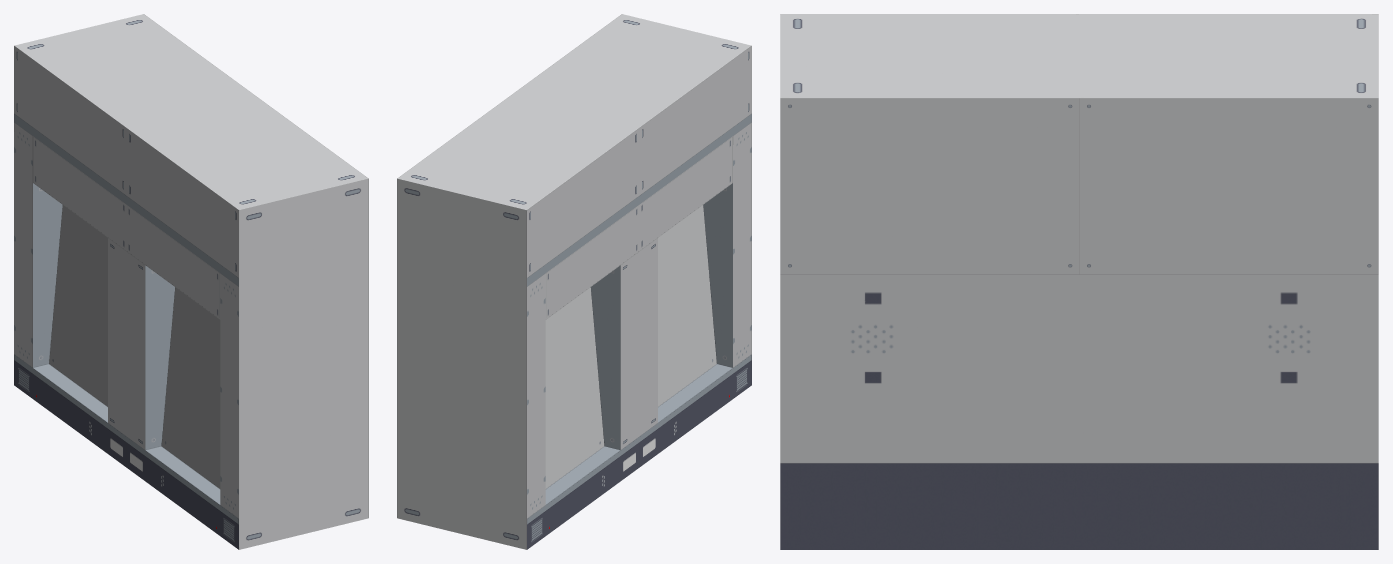
File: Wall_Normal_Simple_04.FBX
3 views of the same model, side by side, from view 1: azimuth 30°, elevation 25°; view 2: azimuth 150°, elevation 25°; view 3: azimuth 270°, elevation 25° (orthographic). The views are drawn at different scales.
Parts seen in each view (by area): view 1: Wall_Normal_Simple_04; view 2: Wall_Normal_Simple_04; view 3: Wall_Normal_Simple_04.
Boxes of the visible parts, left/top/right/bottom form: Wall_Normal_Simple_04: left=14, top=14, right=368, bottom=549; Wall_Normal_Simple_04: left=397, top=14, right=751, bottom=549; Wall_Normal_Simple_04: left=780, top=14, right=1378, bottom=549.
Bounding box in the file's own units: 2 × 5 × 6.
